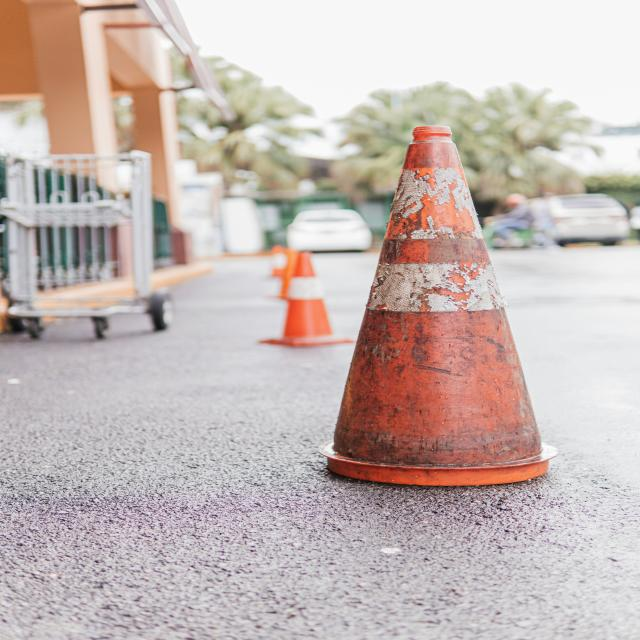Traffic Cone: (292, 108, 586, 497)
